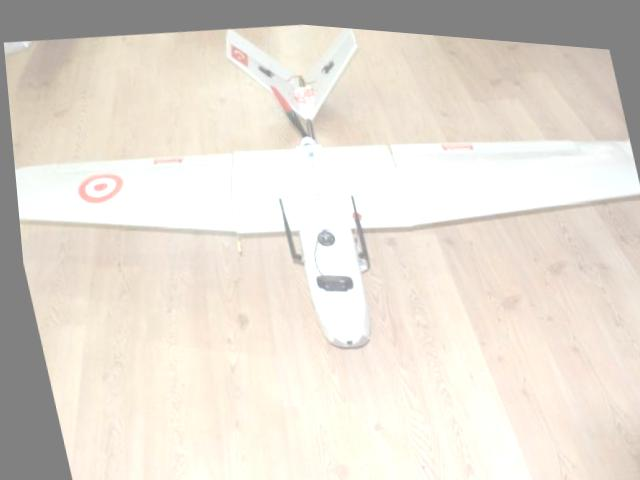iha: (0, 0, 640, 409)
